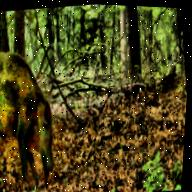boar: (0, 16, 80, 192)
